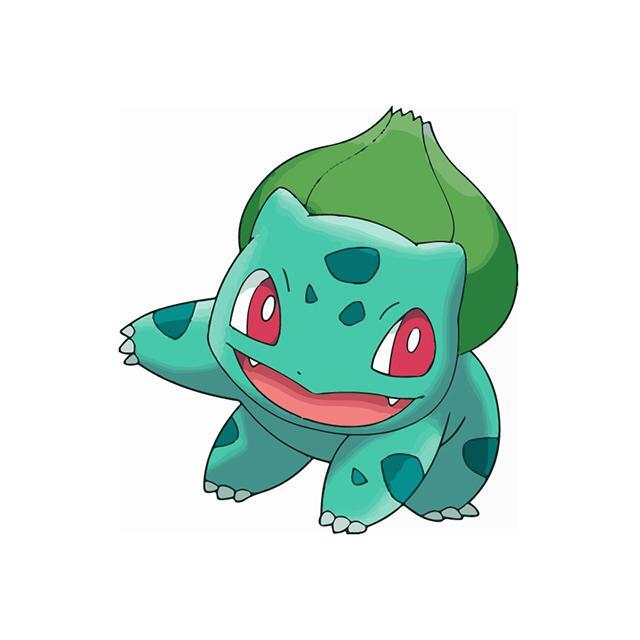001-bulbasaur: (124, 102, 524, 527)
